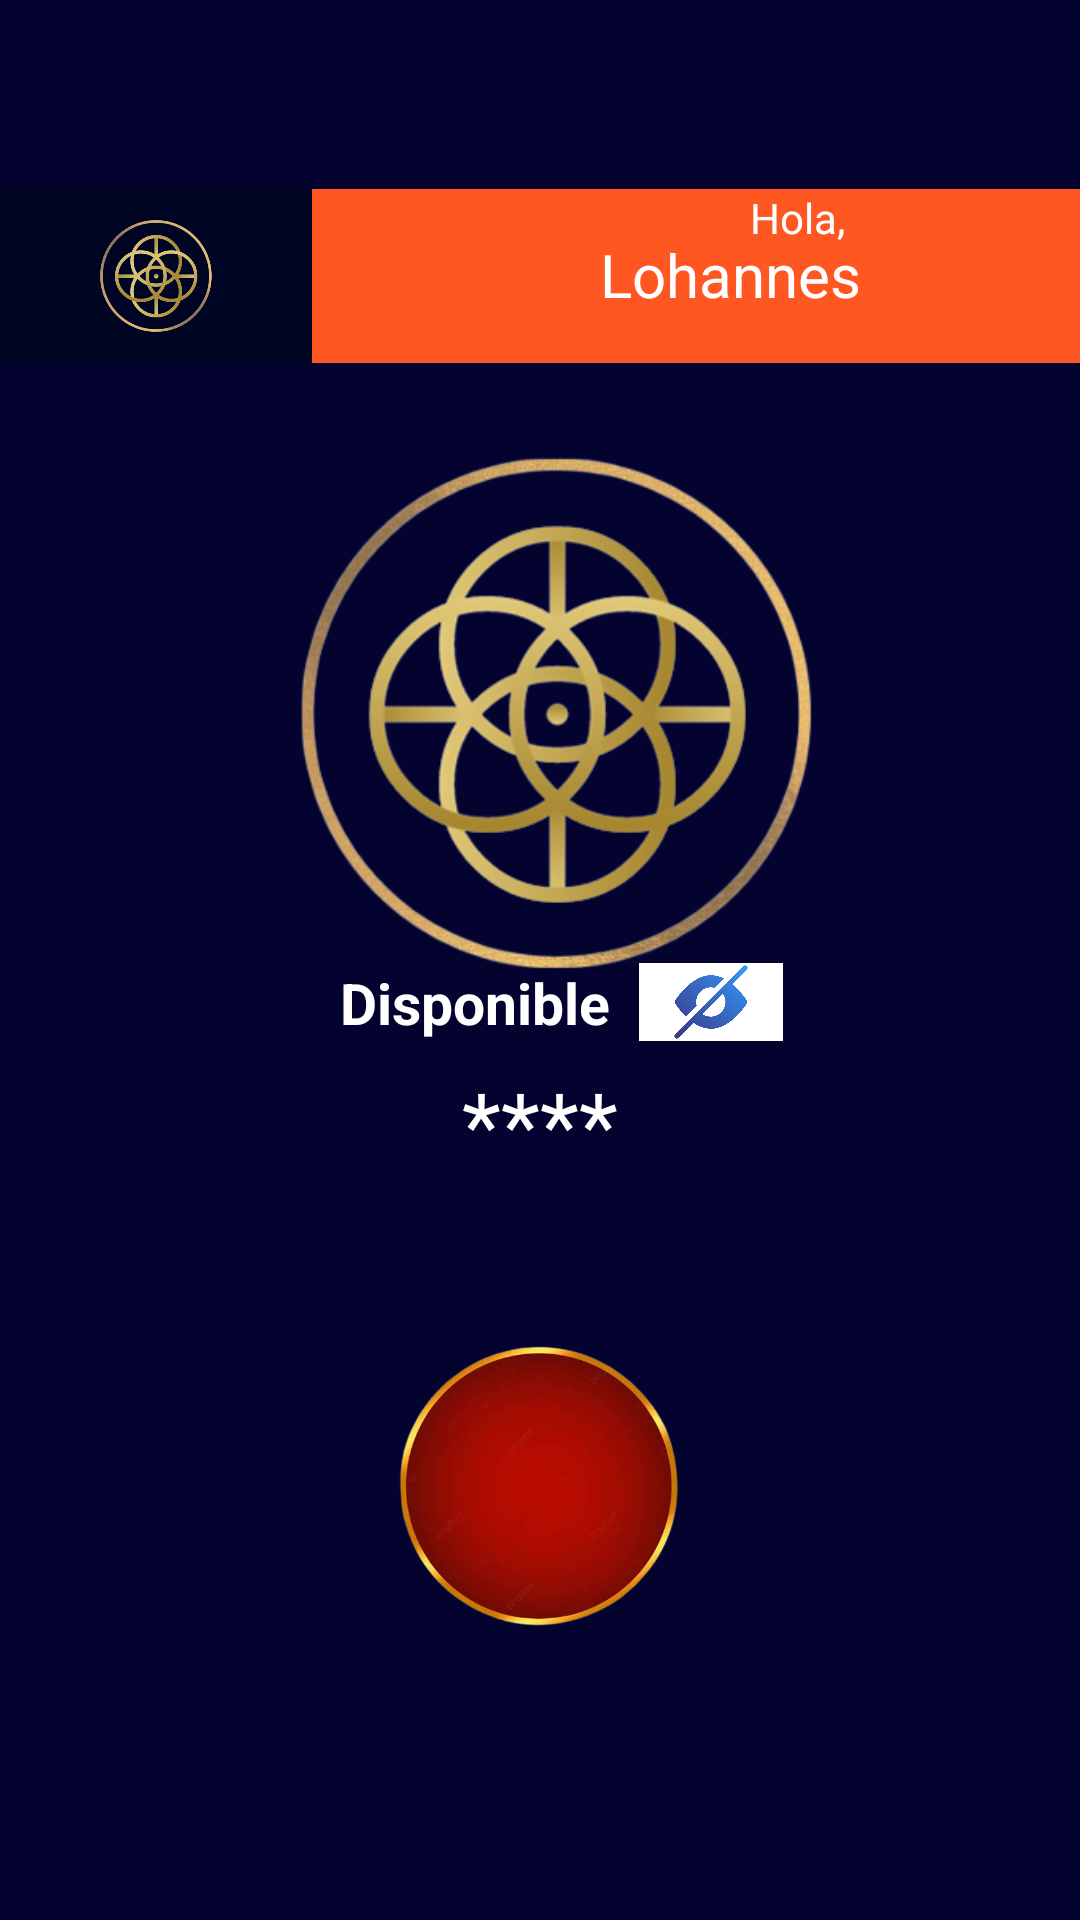

Where to tap for icons on this 1080×1920 app screen, as (x=x, y=y):
circuloroj: (x=539, y=1486)
